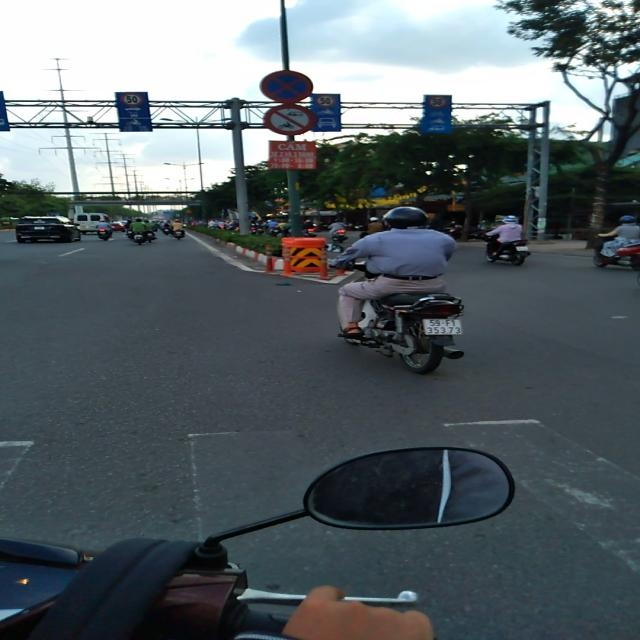bien_chi_dan: (258, 70, 314, 103), (121, 93, 143, 106), (315, 94, 335, 108), (428, 96, 448, 108)
